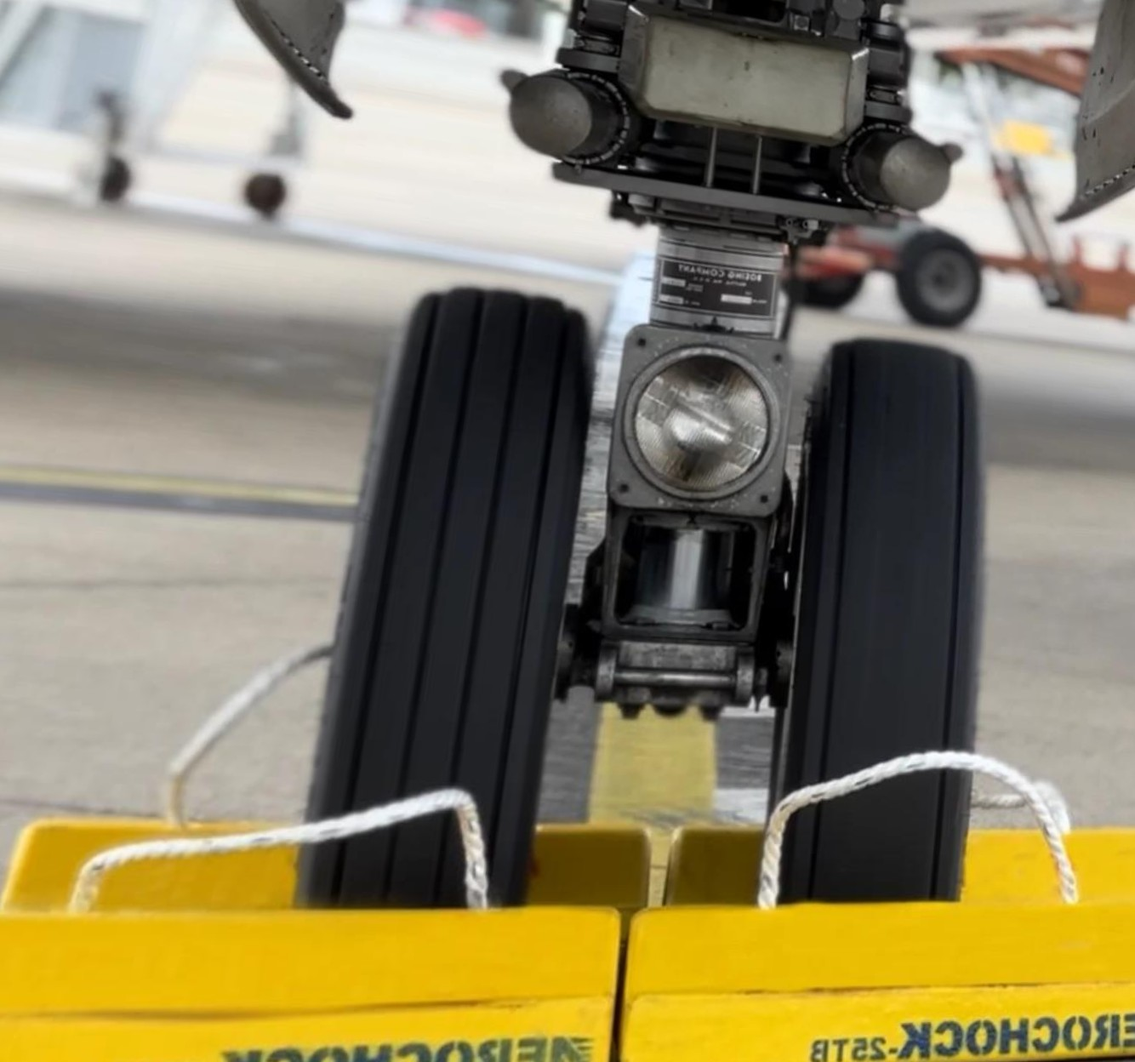chock: (0, 904, 627, 1062), (610, 896, 1135, 1062), (0, 814, 657, 918), (653, 815, 1135, 910)
wheel: (297, 276, 610, 913), (759, 326, 996, 900), (897, 226, 985, 329), (794, 257, 865, 312)
